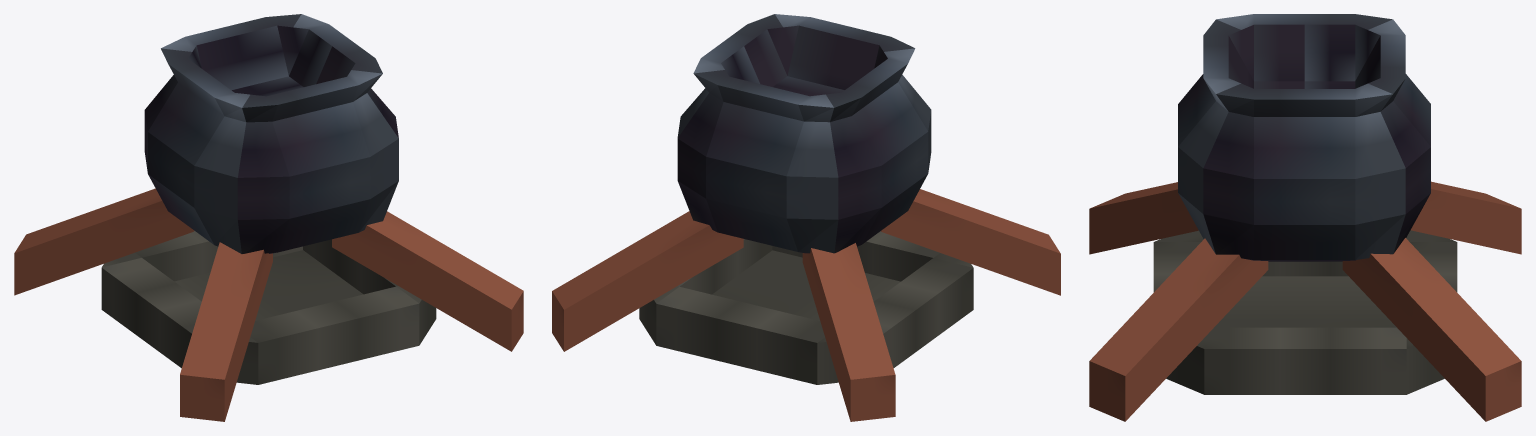
The model's file is cookpot.obj.
The picture shows the model from 3 angles, left to right: view 1: azimuth 30°, elevation 25°; view 2: azimuth 150°, elevation 25°; view 3: azimuth 270°, elevation 25°; orthographic projection. The views are drawn at different scales.
Visible parts, largest first — view 1: Default; view 2: Default; view 3: Default.
Boxes of the visible parts, bbox=[...] form: Default: bbox=[14, 14, 523, 421]; Default: bbox=[552, 14, 1060, 421]; Default: bbox=[1089, 14, 1521, 421].
Size of the model in its own units: 1.07 by 0.75 by 1.07.
